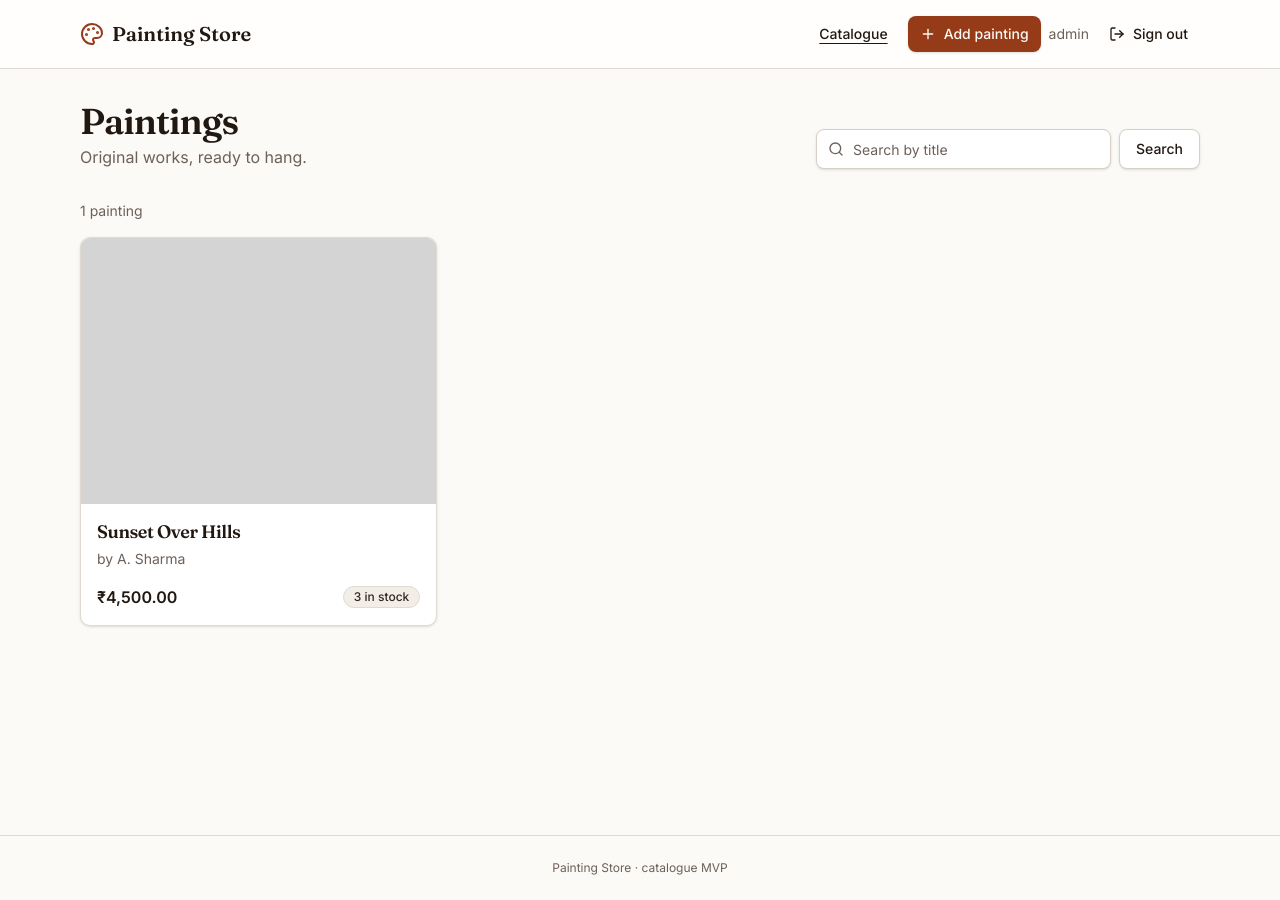
Test case: navigation by role › signing out removes the token and the admin controls
Click the button "Sign out".
click(1148, 34)  # box [1097,16,1200,52]
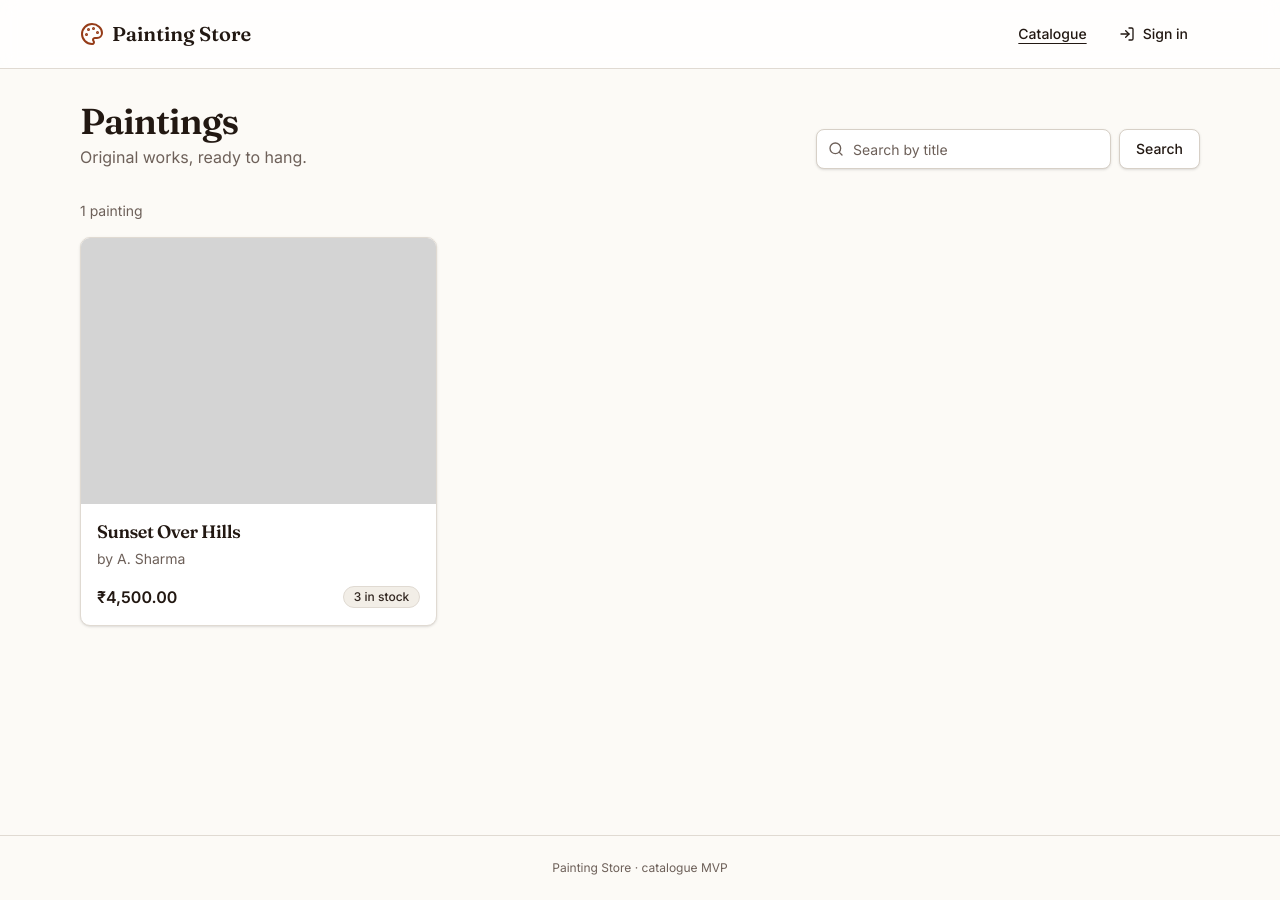
Expected: the link "Sign in" is shown, [1119,25,1188,42]
Expected: the link "Add painting" is gone
